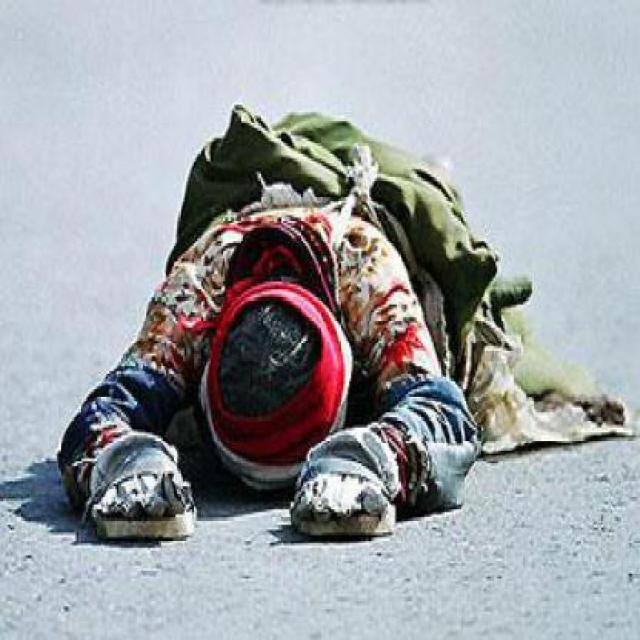fall: (19, 37, 543, 546)
